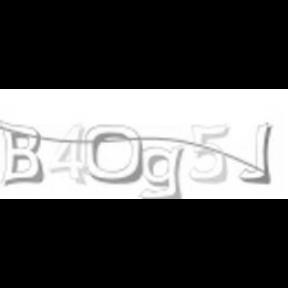4: (47, 121, 89, 185)
5: (188, 121, 230, 187)
B: (0, 120, 44, 186)
J: (238, 118, 274, 186)
O: (85, 122, 143, 186)
g: (138, 143, 184, 199)
